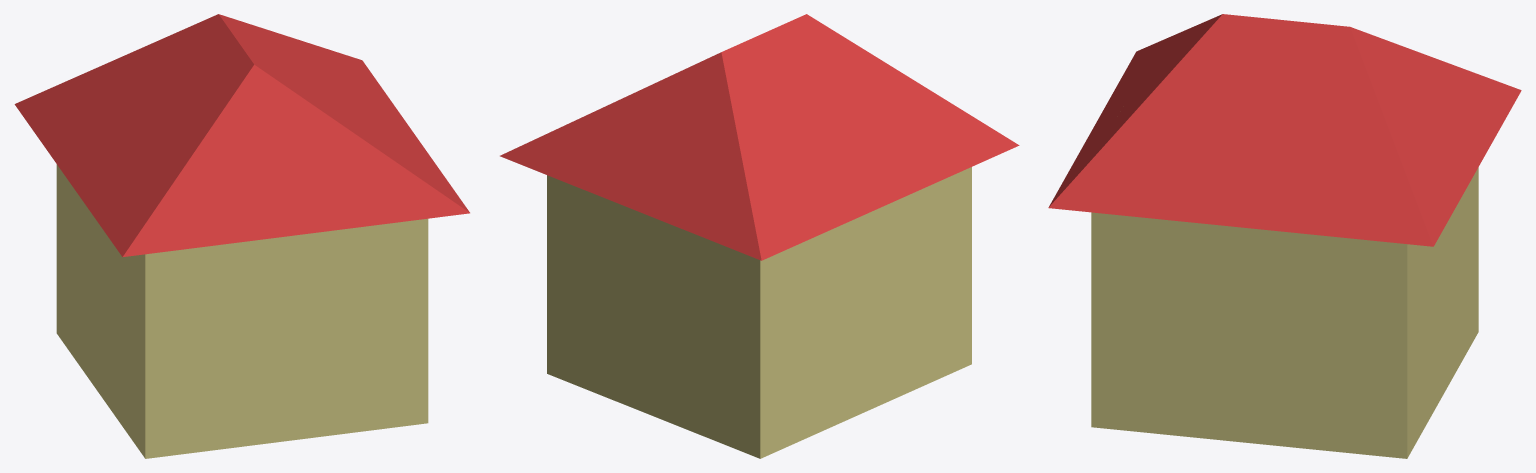
3 renders of one model, left to right at view 1: azimuth 30°, elevation 25°; view 2: azimuth 150°, elevation 25°; view 3: azimuth 270°, elevation 25°, orthographic. The views are drawn at different scales.
Parts seen in each view (by area): view 1: group_5, group_3, group_4; view 2: group_5, group_3, group_4; view 3: group_5, group_3, group_4.
Boxes of the visible parts, x1,y1,x2,y2 form: group_5: [56, 164, 428, 458]; group_3: [14, 14, 469, 257]; group_4: [23, 80, 469, 256]; group_5: [547, 167, 971, 458]; group_3: [548, 14, 1019, 260]; group_4: [500, 128, 761, 260]; group_5: [1091, 167, 1478, 458]; group_3: [1049, 14, 1475, 246]; group_4: [1048, 45, 1521, 246].
Size of the model in its own units: 12.95 by 13.27 by 11.02.
